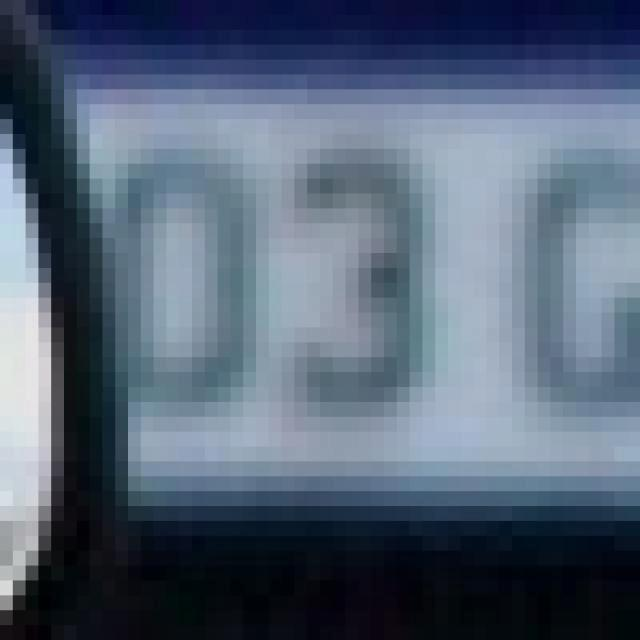LicensePlate: (42, 66, 640, 550)
